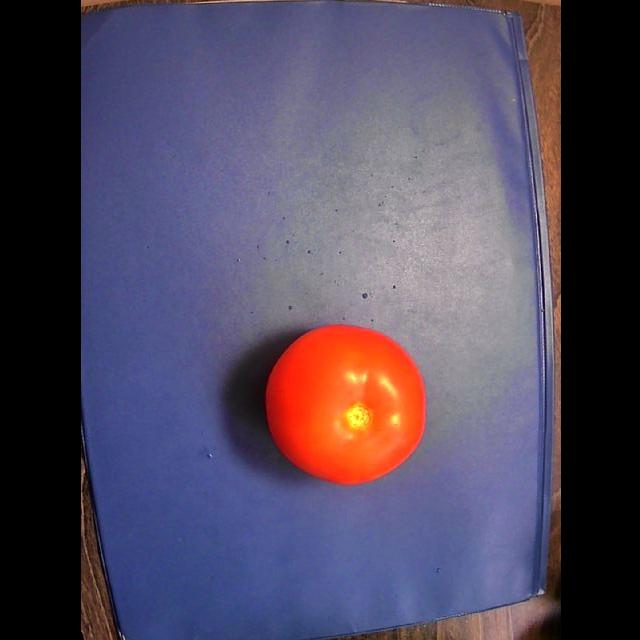tomate: (265, 326, 425, 485)
